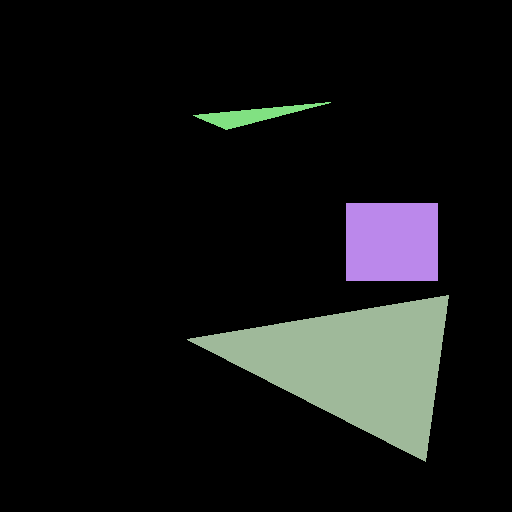rectangle: (346, 203, 437, 280)
triangle: (187, 295, 448, 461), (193, 102, 330, 129)
